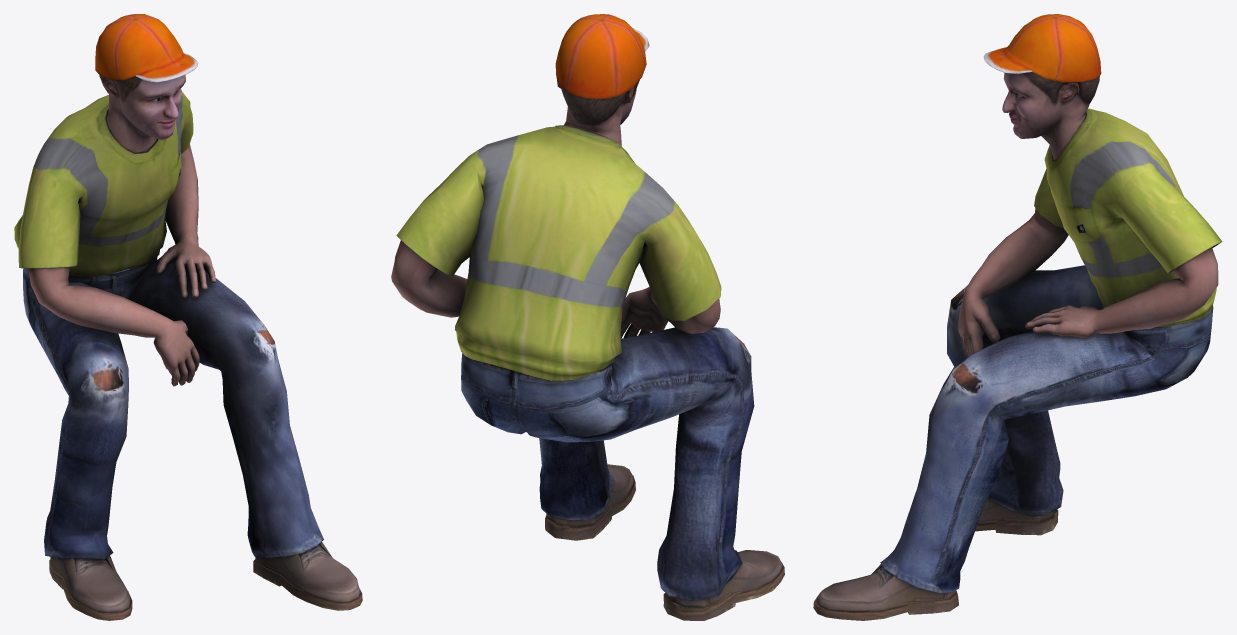
File: SWRK01_05_02.FBX
3 views of the same model, side by side, from view 1: azimuth 30°, elevation 25°; view 2: azimuth 150°, elevation 25°; view 3: azimuth 270°, elevation 25° (orthographic). The views are drawn at different scales.
Visible parts, largest first — view 1: SWRK01_05_02; view 2: SWRK01_05_02; view 3: SWRK01_05_02.
Part boxes in pixels (left/top/right/bottom): SWRK01_05_02: left=14, top=14, right=362, bottom=620; SWRK01_05_02: left=391, top=14, right=784, bottom=620; SWRK01_05_02: left=813, top=14, right=1222, bottom=620.
Size of the model in its own units: 24.45 by 53.11 by 36.28.
Materials: 1 (1 with a texture image).
